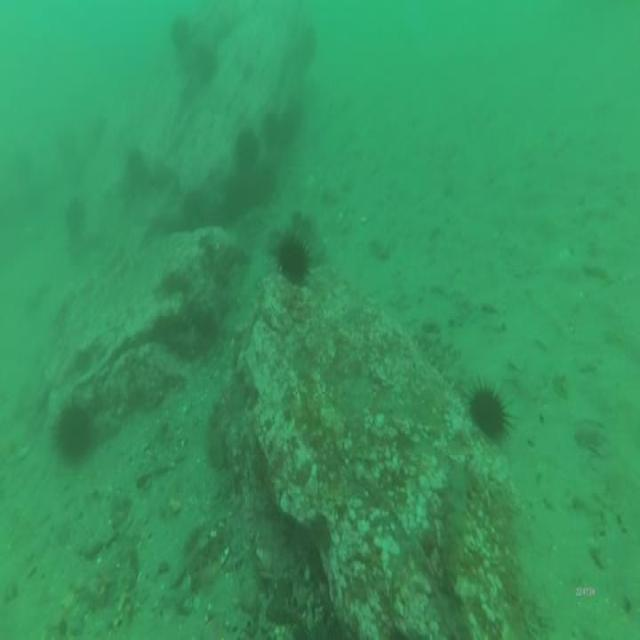echinus: (466, 374, 514, 454), (54, 397, 97, 472), (275, 229, 313, 291), (294, 19, 322, 69), (233, 125, 261, 175), (191, 41, 220, 89), (166, 9, 194, 58), (63, 193, 90, 243), (278, 98, 305, 147), (124, 143, 148, 195)
holothurian: (438, 454, 472, 602), (410, 325, 463, 403)
